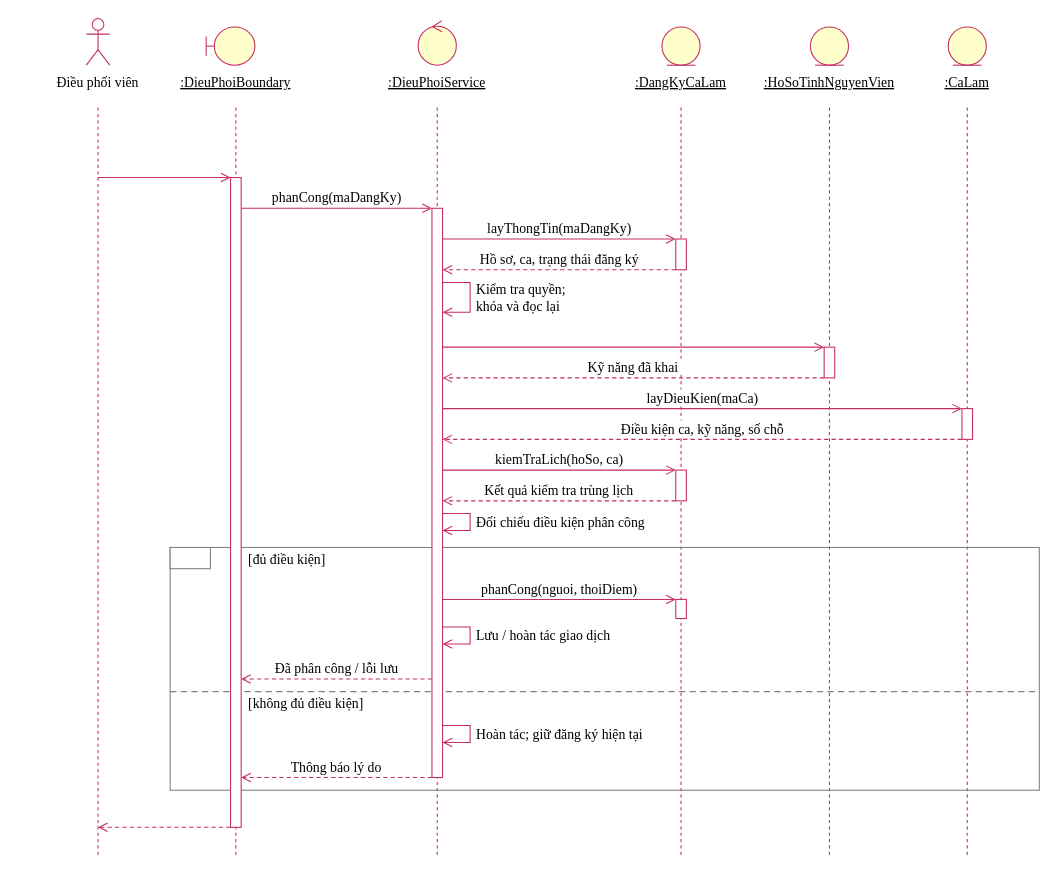
Some shapes in this 1064 by 874 pixel diagram are drawn without their labels. Here are the shapes that lost their labels. From the top down, the centre of each, then its label:
At point 163,158: "Chọn đăng ký, nhấn Phân công".
At point 633,335: "layKyNang()".
At point 189,557: "alt".
At point 163,816: "Hiển thị kết quả".
